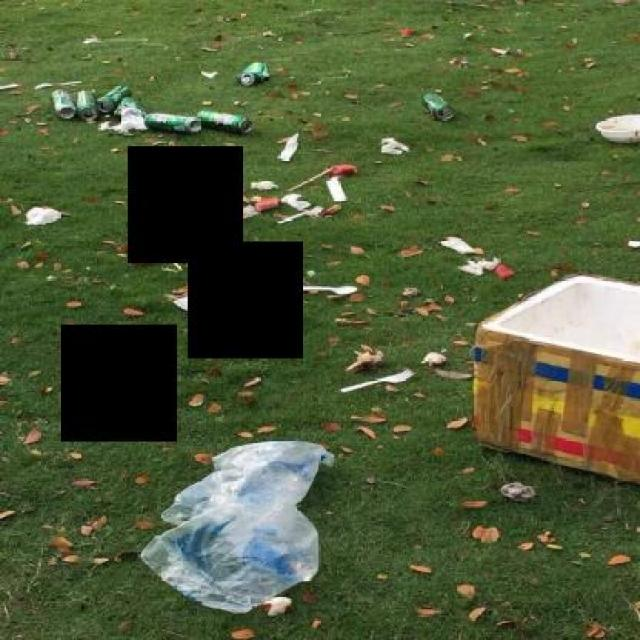plastic bag: (136, 434, 332, 615)
